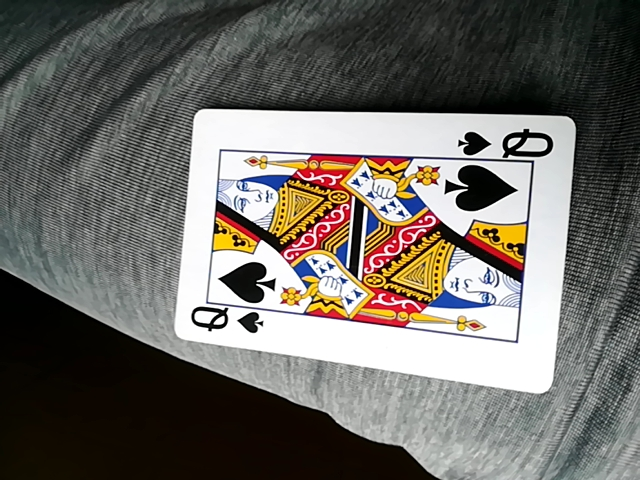ht q: (183, 106, 580, 394)
